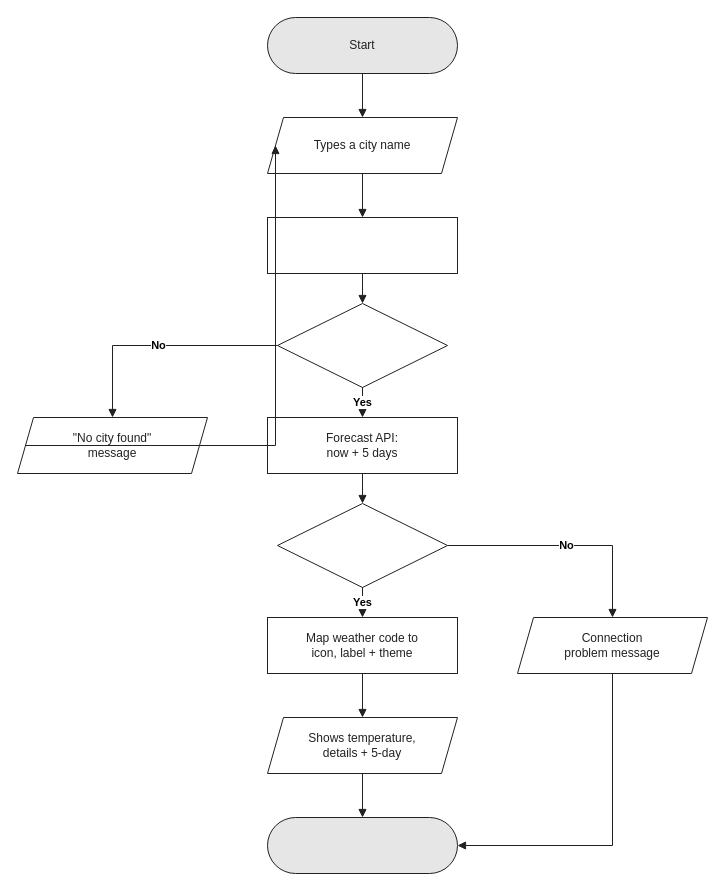
This 725x891 diagram has some shape labels left out. Each missing label, with the box of its shape:
City found?: (276, 302, 448, 388)
End: (266, 816, 458, 874)
Geocoding API: name → coordinates: (266, 216, 458, 274)
Request OK?: (276, 502, 448, 588)
